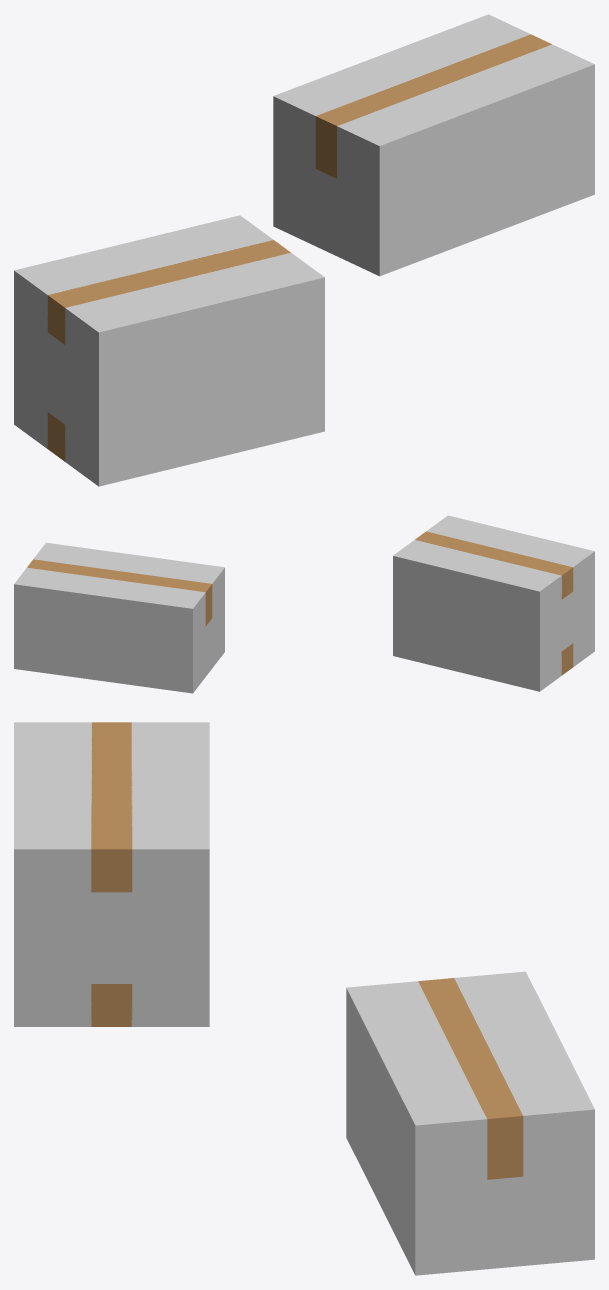
File: Cajas_Carton.fbx
The picture shows the model from 3 angles, top to bottom: view 1: azimuth 30°, elevation 25°; view 2: azimuth 150°, elevation 25°; view 3: azimuth 270°, elevation 25°; orthographic projection. The views are drawn at different scales.
Visible parts, largest first — view 1: Caja_1, Cube; view 2: Caja_1, Cube; view 3: Cube, Caja_1.
Boxes of the visible parts, box(x1,y1,x2,y2) form: Caja_1: box(14, 215, 324, 486); Cube: box(273, 14, 594, 276); Caja_1: box(393, 515, 594, 691); Cube: box(14, 542, 224, 693); Cube: box(346, 971, 594, 1275); Caja_1: box(14, 722, 209, 1026).
Size of the model in its own units: 10929 by 2401 by 7118.
